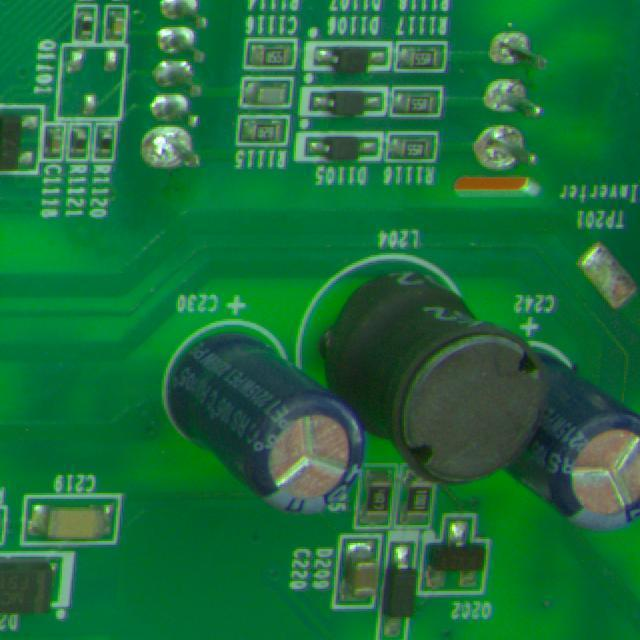Insufficient solder: (476, 26, 544, 73), (479, 126, 522, 178), (480, 77, 535, 114), (145, 125, 190, 168)
